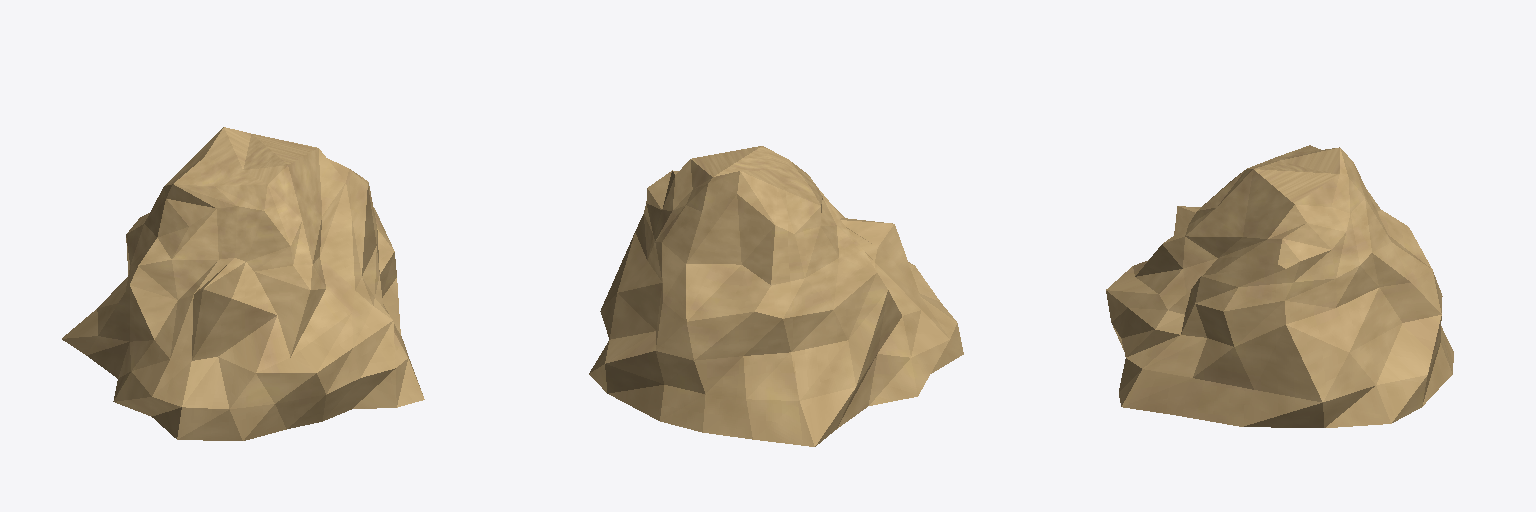
3 renders of one model, left to right at view 1: azimuth 30°, elevation 25°; view 2: azimuth 150°, elevation 25°; view 3: azimuth 270°, elevation 25°, orthographic.
Visible parts, largest first — view 1: rock_02; view 2: rock_02; view 3: rock_02.
Part boxes in pixels (bbox=[...]): rock_02: bbox=[62, 127, 424, 440]; rock_02: bbox=[589, 146, 963, 446]; rock_02: bbox=[1106, 145, 1453, 427].
Size of the model in its own units: 15.89 by 11.16 by 16.38.
Materials: 1 (1 with a texture image).